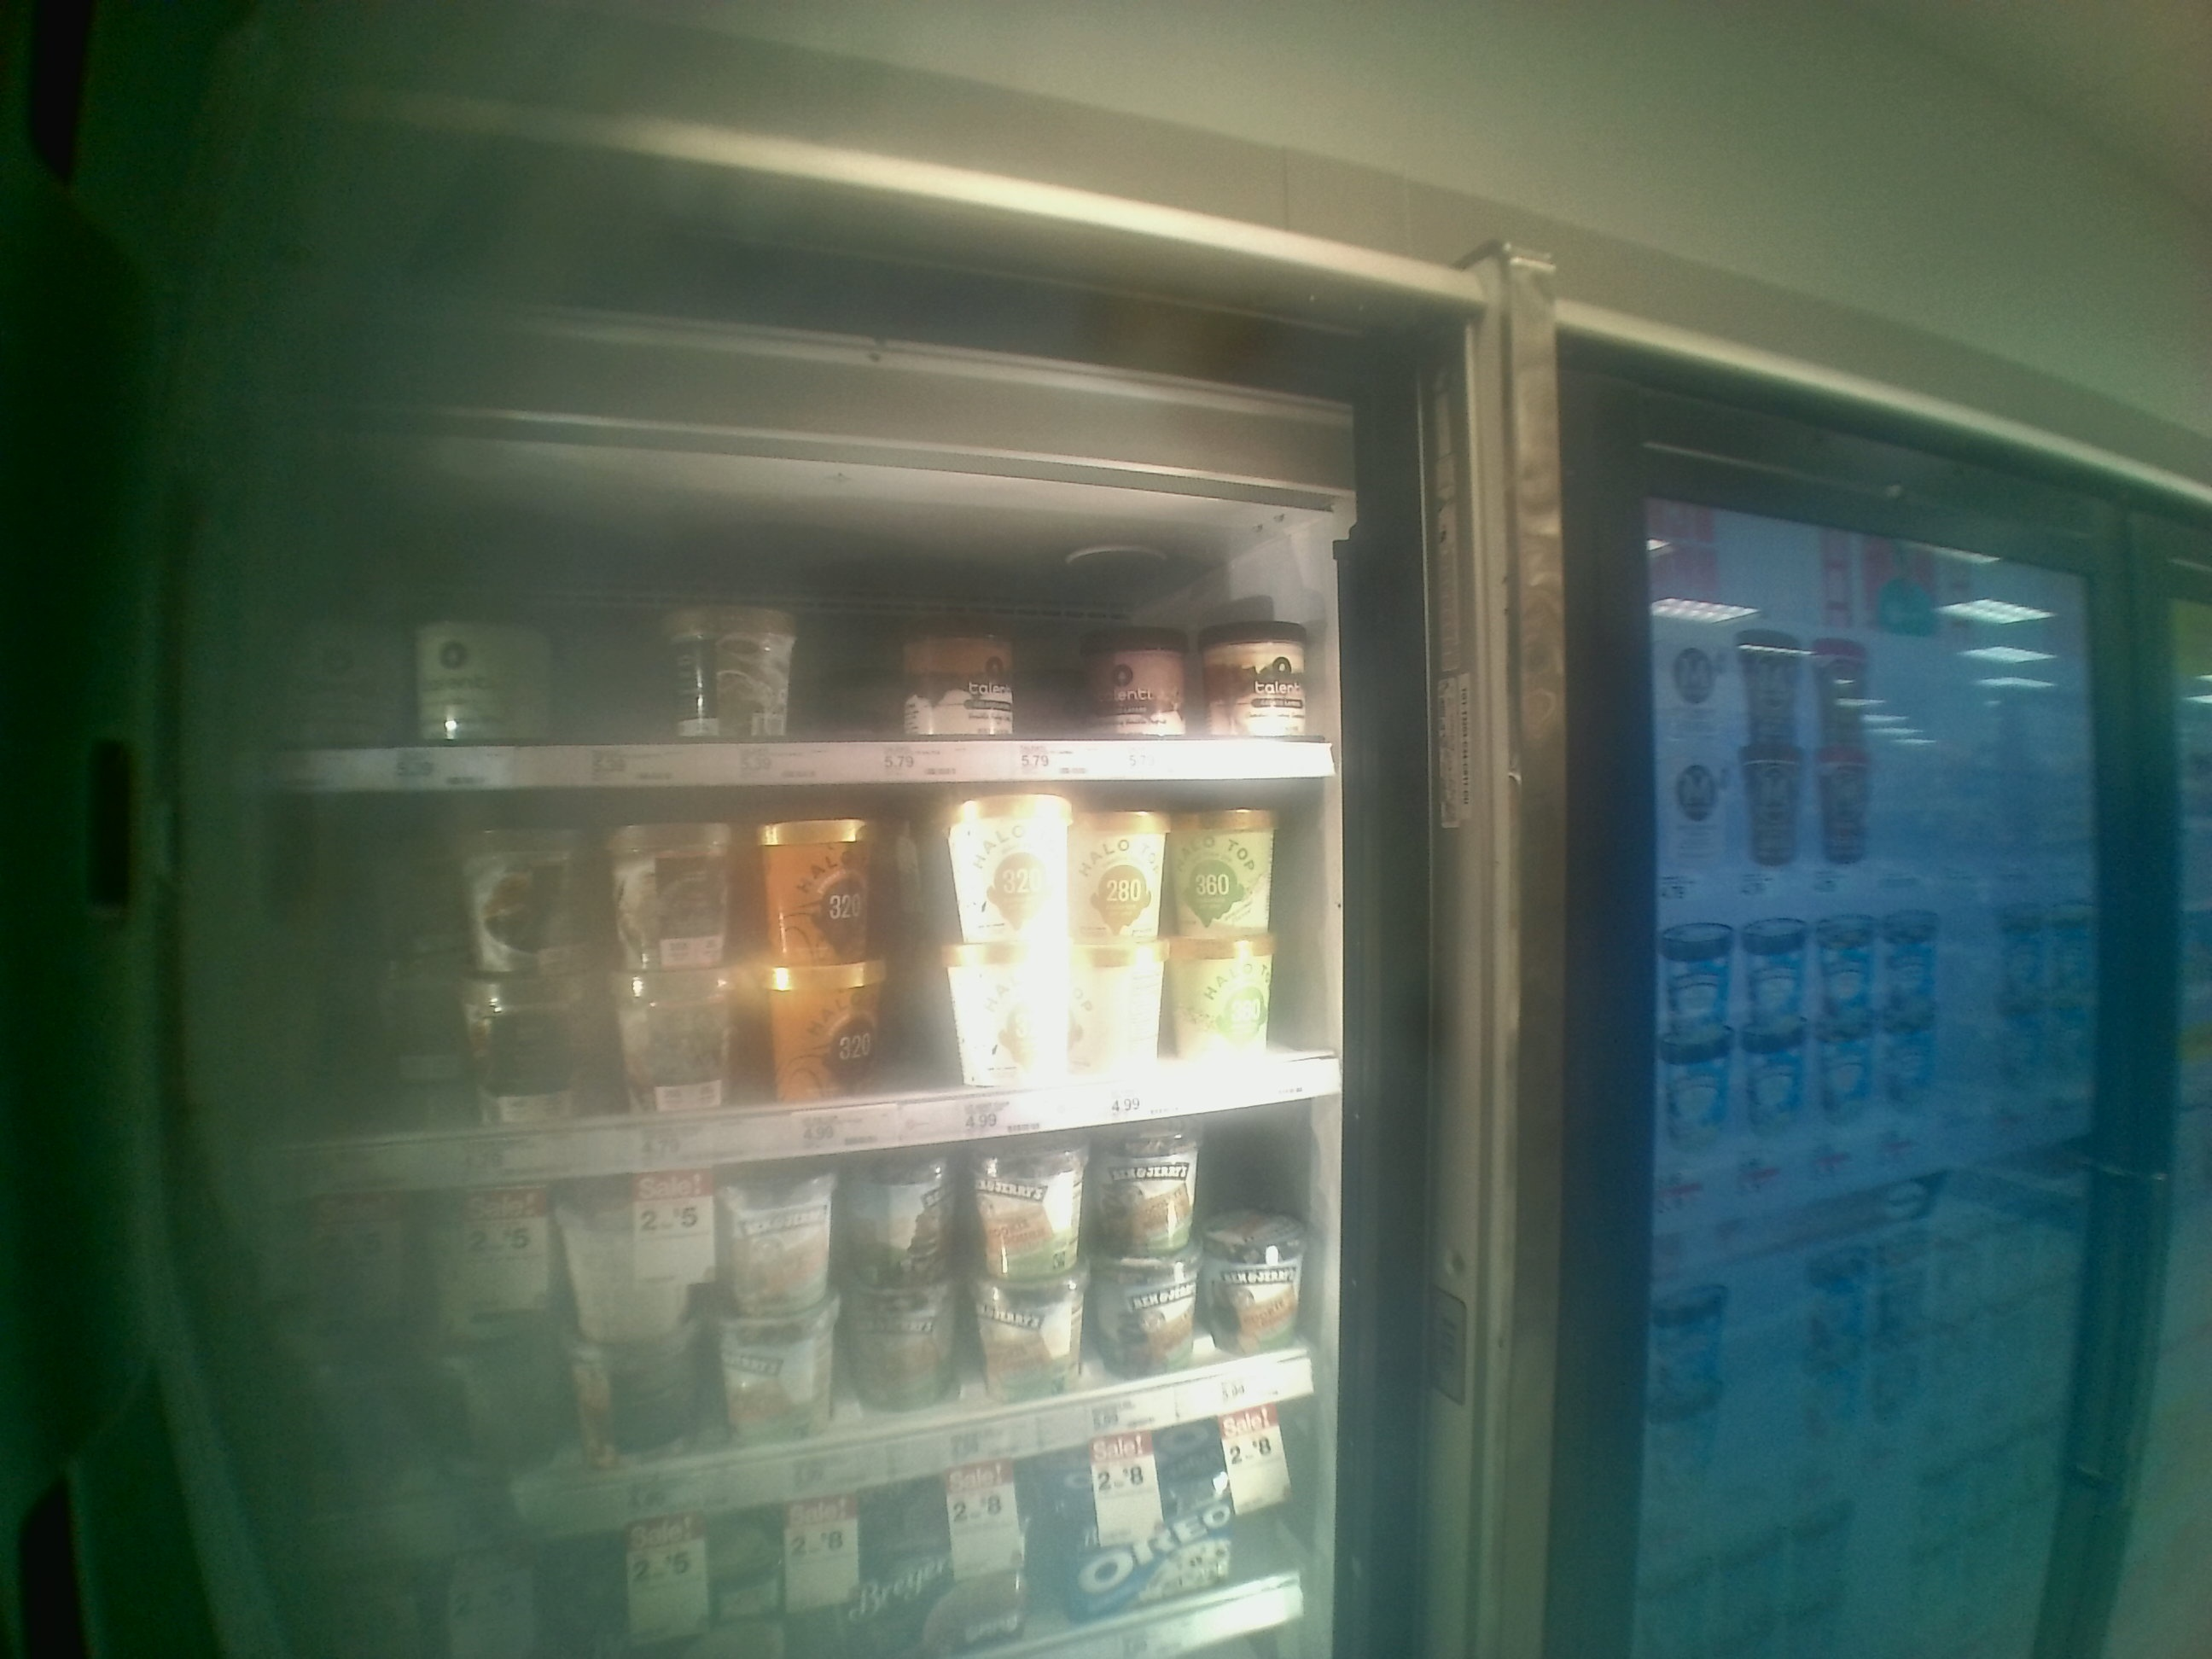shelf: (270, 774, 1345, 1199), (279, 462, 1327, 777)
